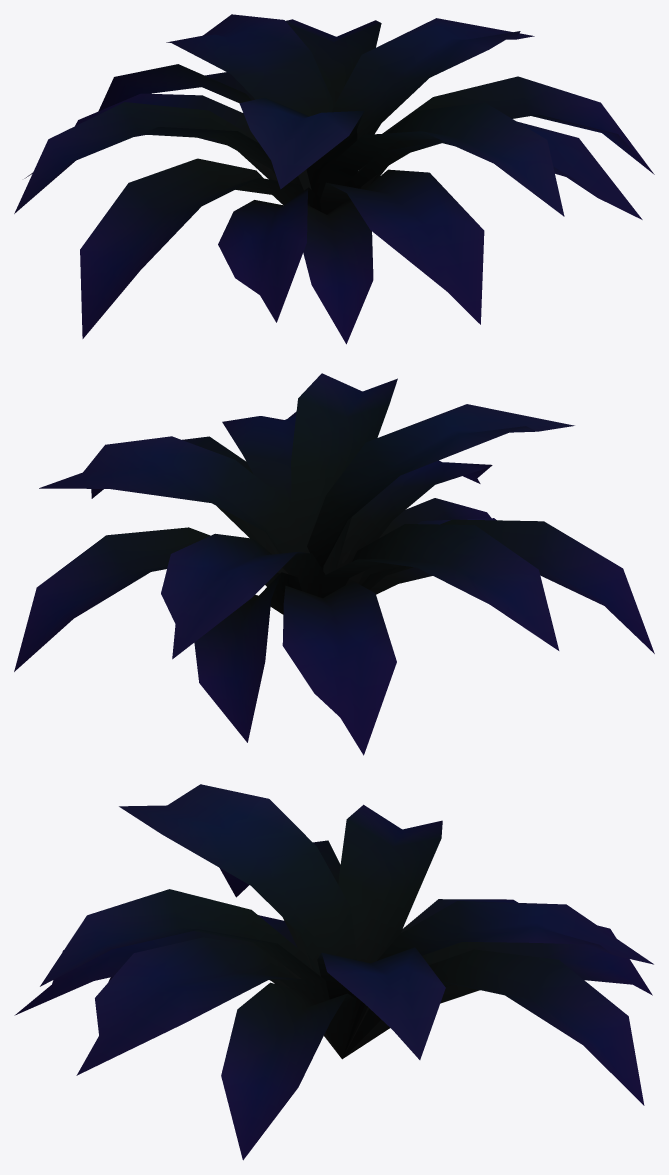
Rendered from TSI_Plant_08A.fbx.
3 renders of one model, top to bottom at view 1: azimuth 30°, elevation 25°; view 2: azimuth 150°, elevation 25°; view 3: azimuth 270°, elevation 25°, orthographic. The views are drawn at different scales.
Parts seen in each view (by area): view 1: TSI_Plant_08A_LOD0; view 2: TSI_Plant_08A_LOD0; view 3: TSI_Plant_08A_LOD0.
Part boxes in pixels (bbox=[...]): TSI_Plant_08A_LOD0: bbox=[14, 14, 654, 344]; TSI_Plant_08A_LOD0: bbox=[14, 373, 654, 755]; TSI_Plant_08A_LOD0: bbox=[14, 784, 653, 1160].
Bounding box in the file's own units: 157 × 52.15 × 149.
